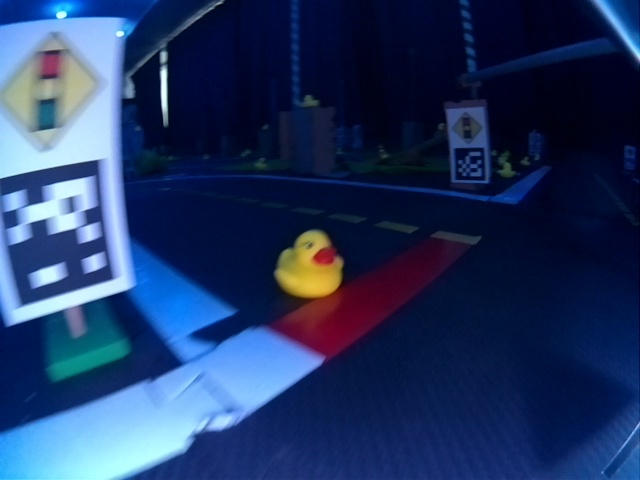Duckie: (274, 231, 342, 298), (499, 163, 515, 178), (254, 158, 268, 170), (303, 95, 318, 106), (521, 158, 530, 165)
QR code: (0, 161, 116, 307), (453, 147, 486, 182)
Signal sign: (1, 29, 105, 152), (451, 112, 484, 144)
